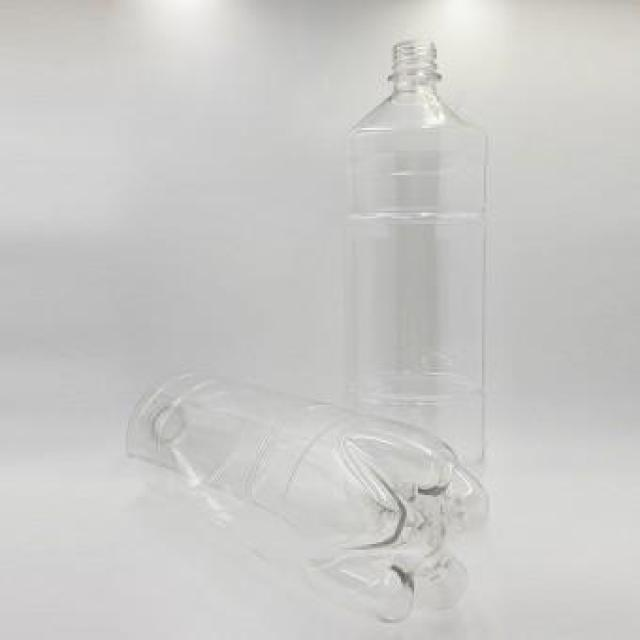bottle: (53, 354, 491, 625), (335, 31, 489, 485)
